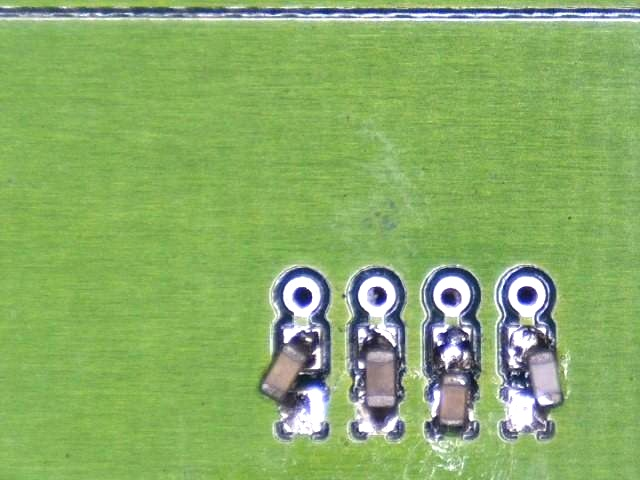pcb_defect: (258, 327, 325, 435), (505, 326, 564, 432), (429, 324, 474, 432), (430, 324, 475, 432)
